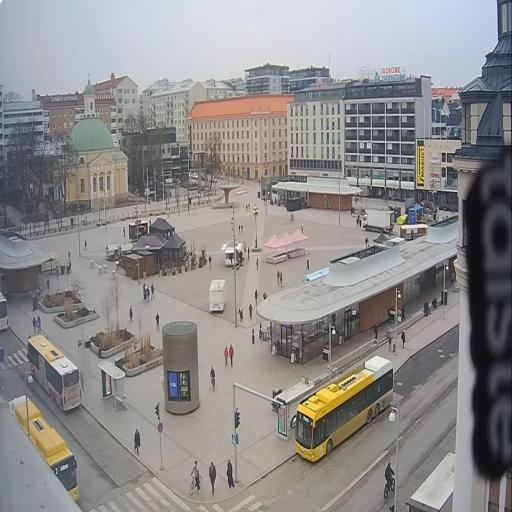bus: (290, 358, 395, 464), (7, 394, 81, 506), (26, 332, 85, 414), (1, 291, 12, 335)
car: (209, 174, 218, 184), (201, 172, 208, 182), (191, 172, 198, 180)
delivery: (362, 206, 397, 234)
two-wheeler: (186, 456, 204, 497), (382, 458, 396, 502), (210, 364, 216, 394)
